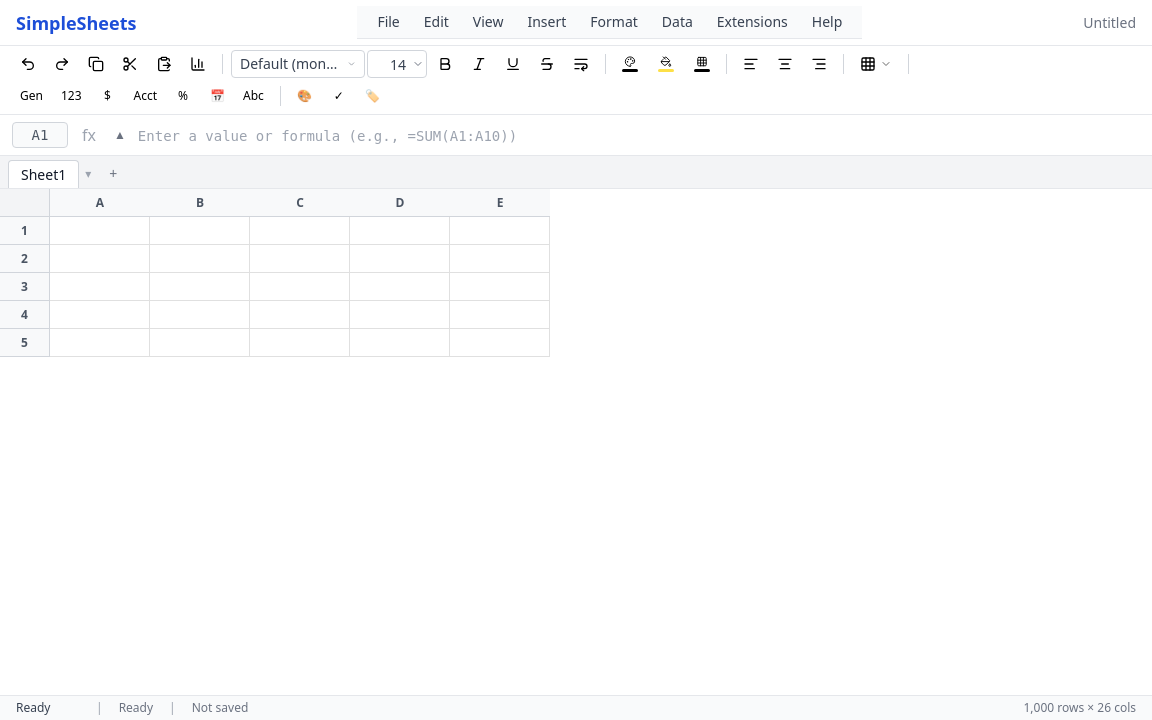
App — Freeze Panes per Excel specification › freezes only columns when active cell is in row 1
This screenshot has width=1152, height=720.
Press the mouse on the 3rd element with class "grid-cell" at (300, 231), box [250,217,350,245]
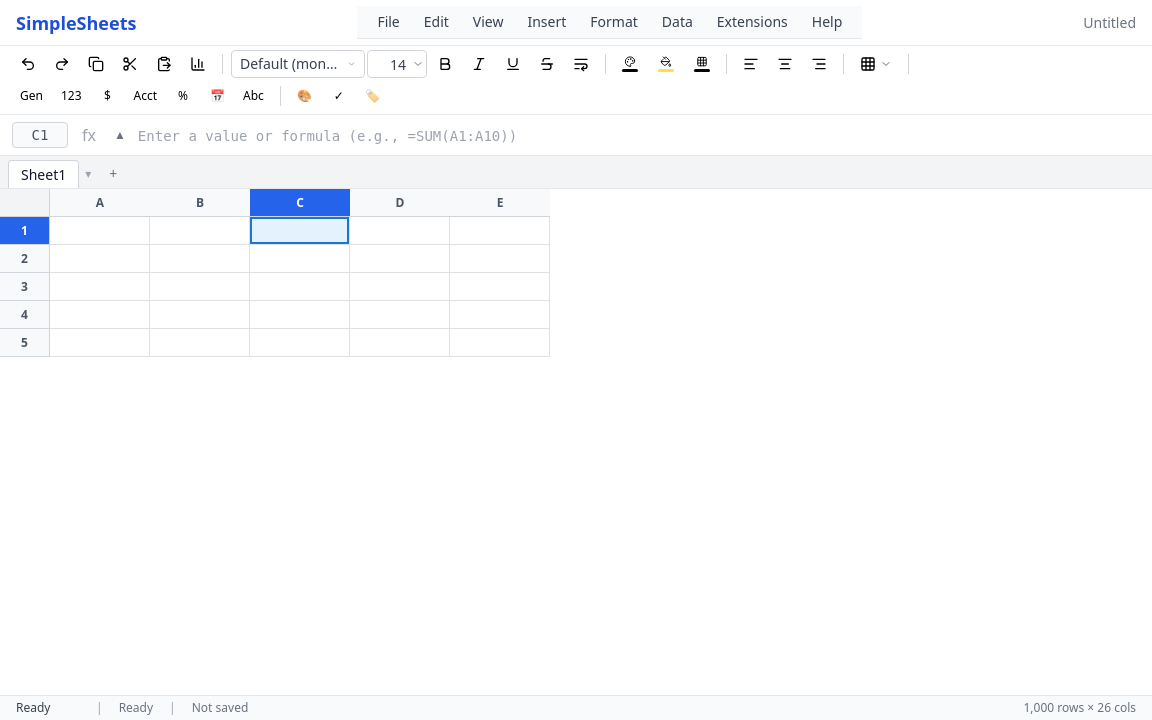
Click the button "View".
click(488, 22)  # box [461,8,515,36]
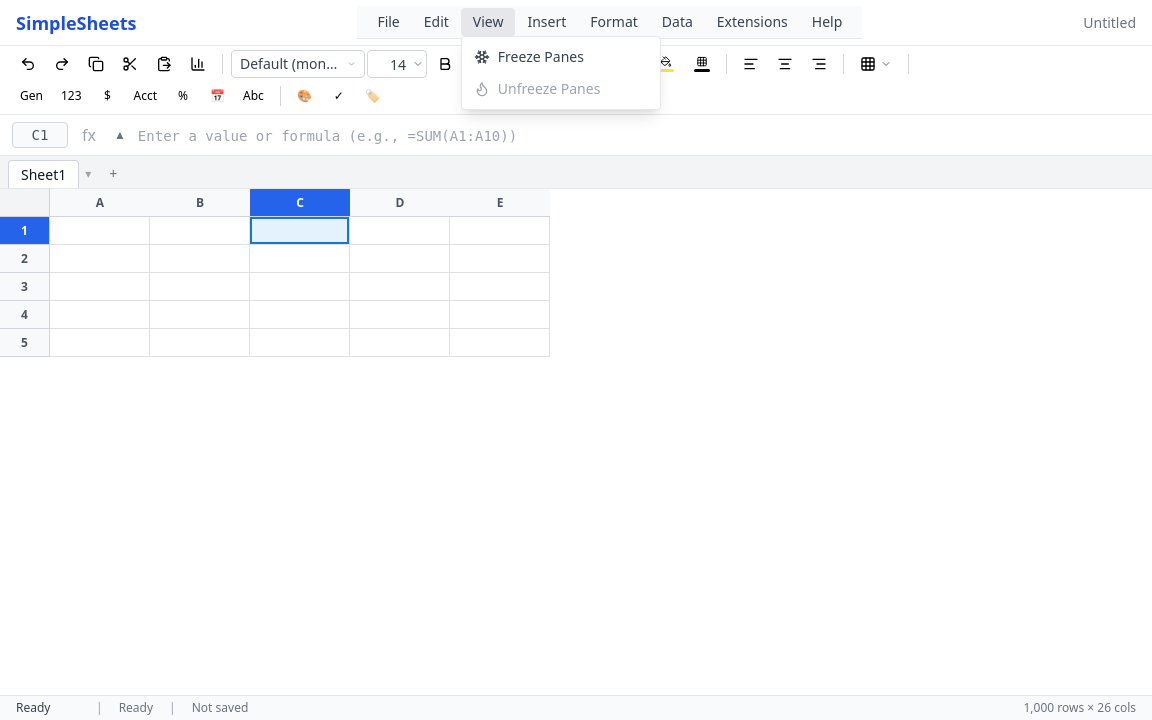
Click the menu item "Freeze Panes".
click(529, 56)  # box [474,47,584,66]
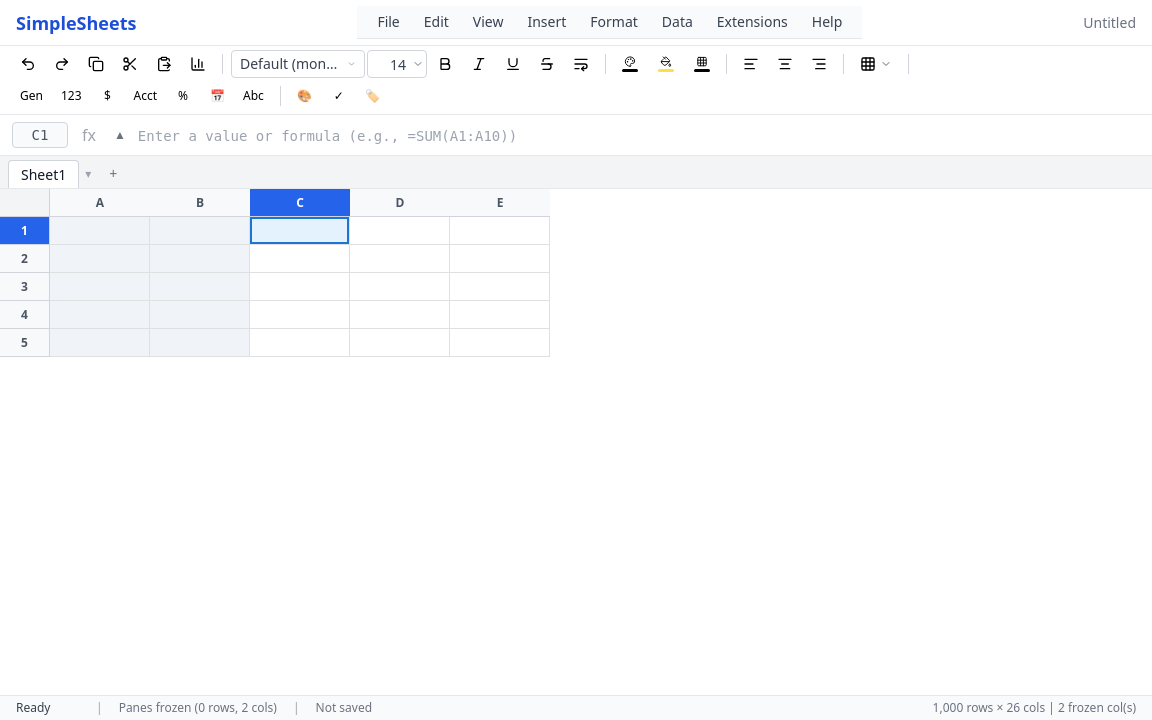
Expected: the footer shows "2 frozen col(s)", [1045,699,1136,716]
